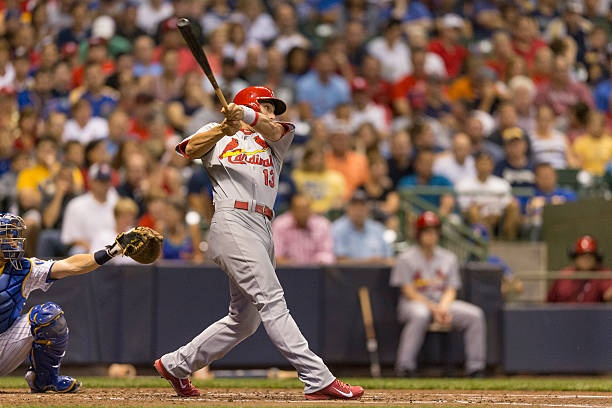bita: (178, 16, 231, 113)
